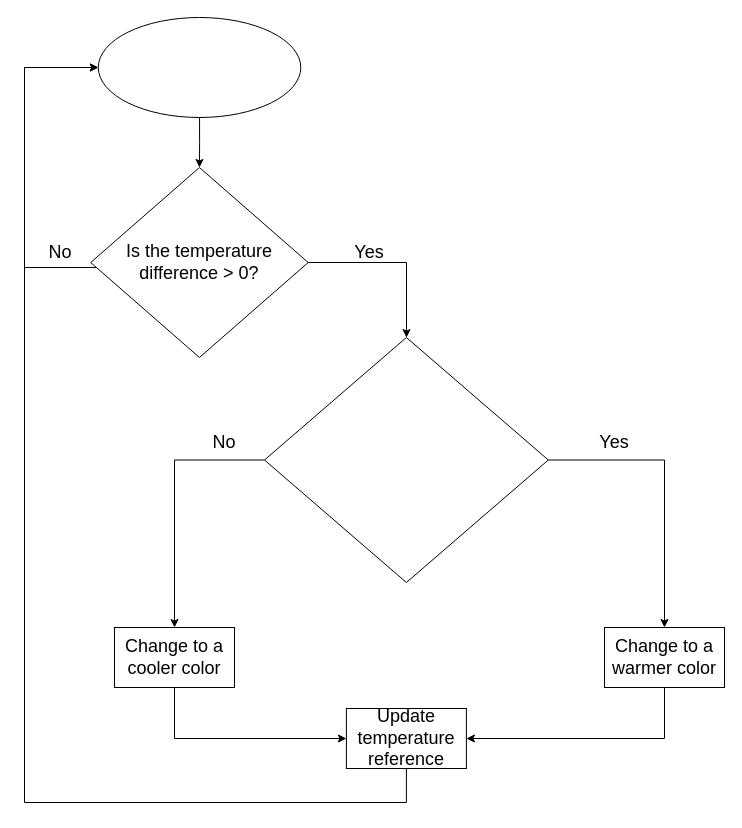
Image size: 742x828. Some labels were removed from this diagram. Here are the shapes that lost their labels. From the top down, the centre of each, then its label:
the point at 199,67: Temperature Sample
the point at 406,459: I s the current temperature > reference temperature ?
